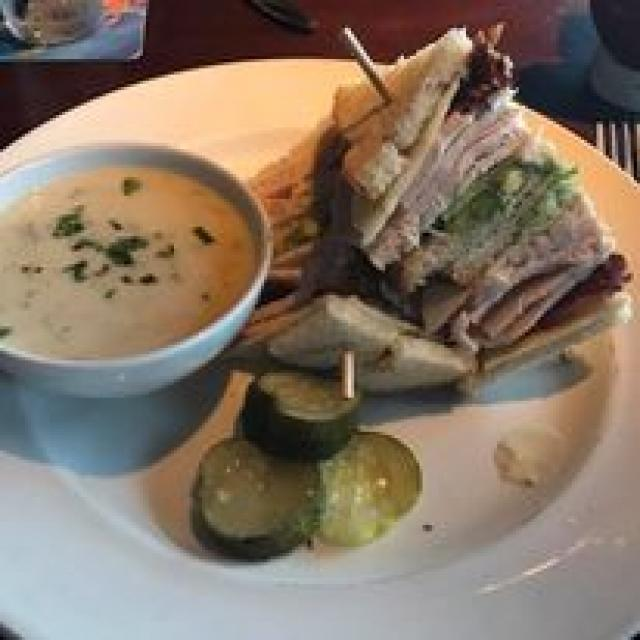Sandwich: (270, 31, 612, 401)
